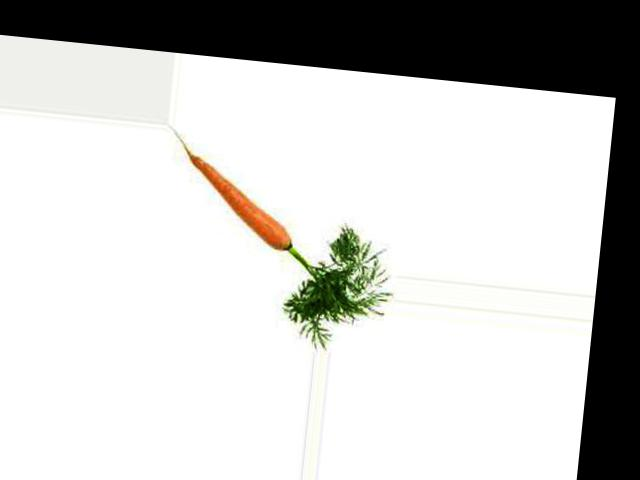carrot: (171, 144, 300, 255)
